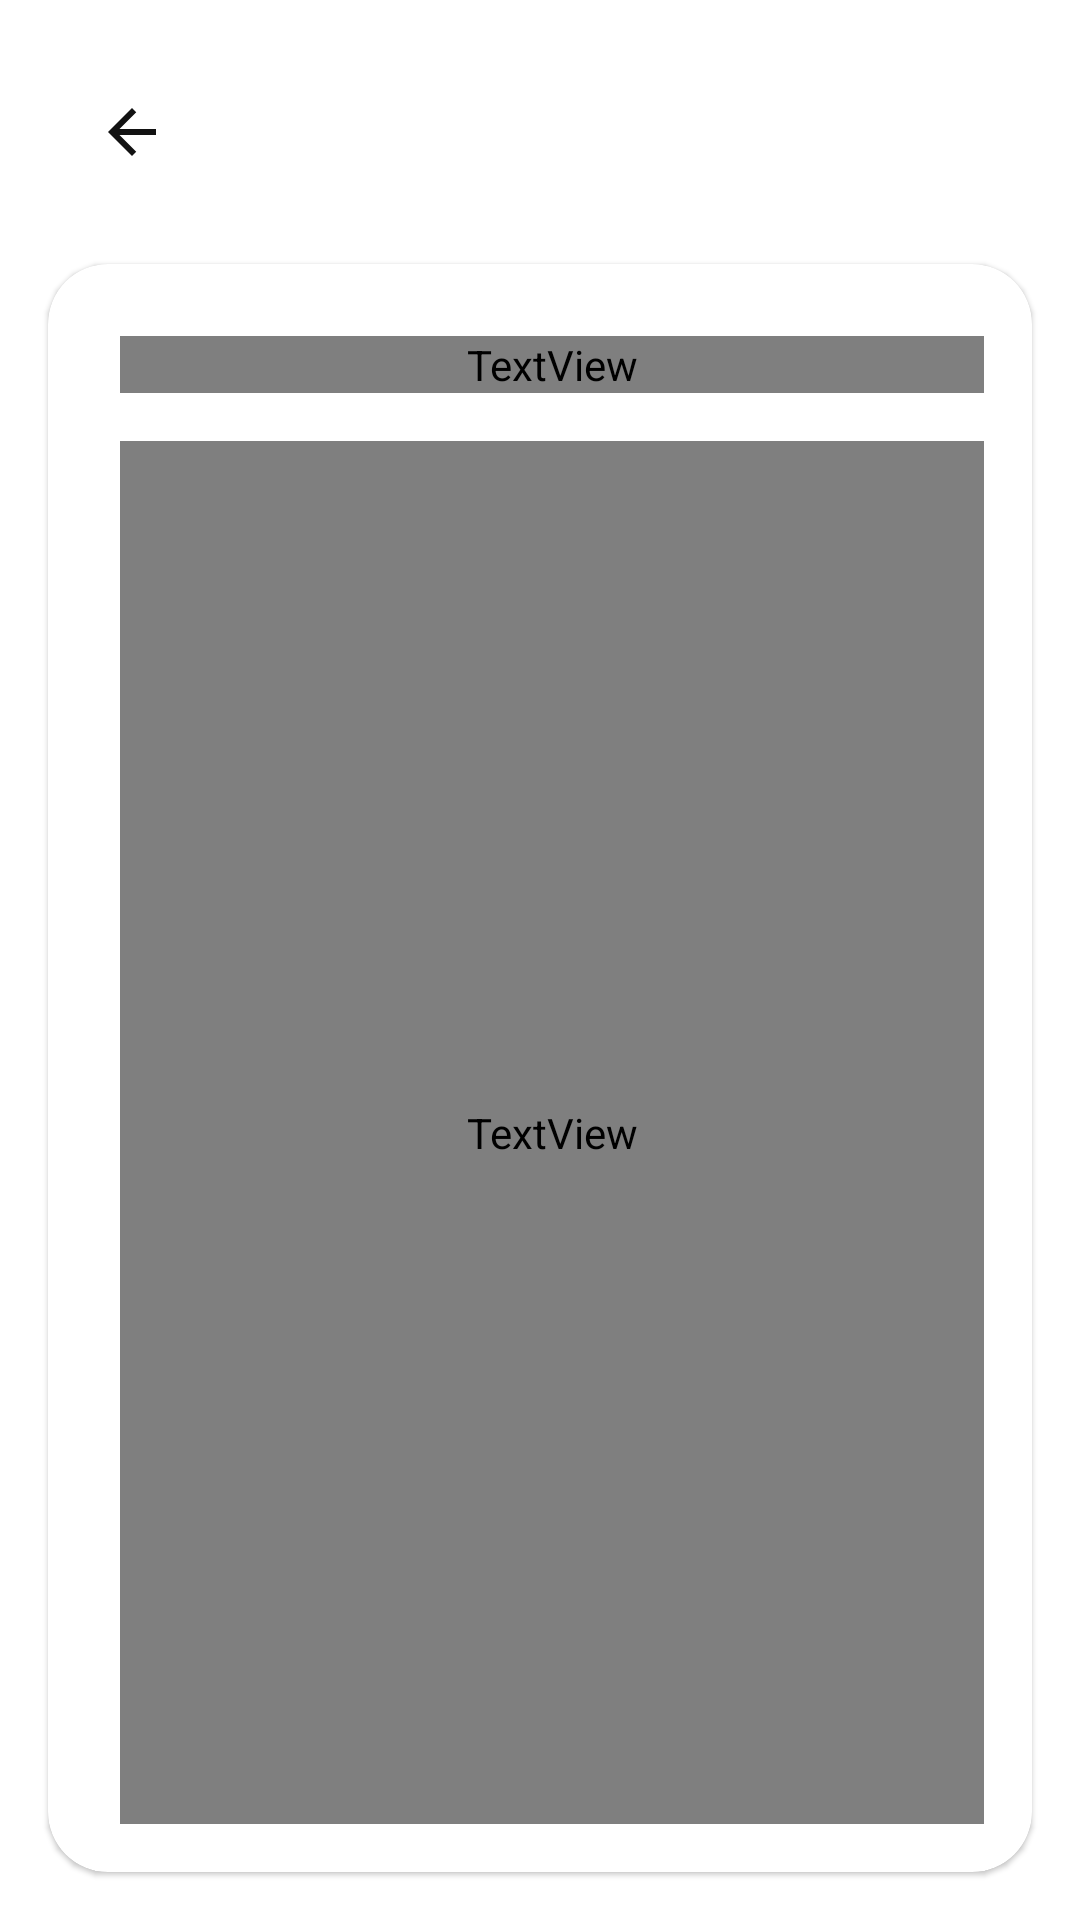

Screen size 1080 × 1920. Icon name, then its center in pixels as (x,y):
arrow back: (132,132)
